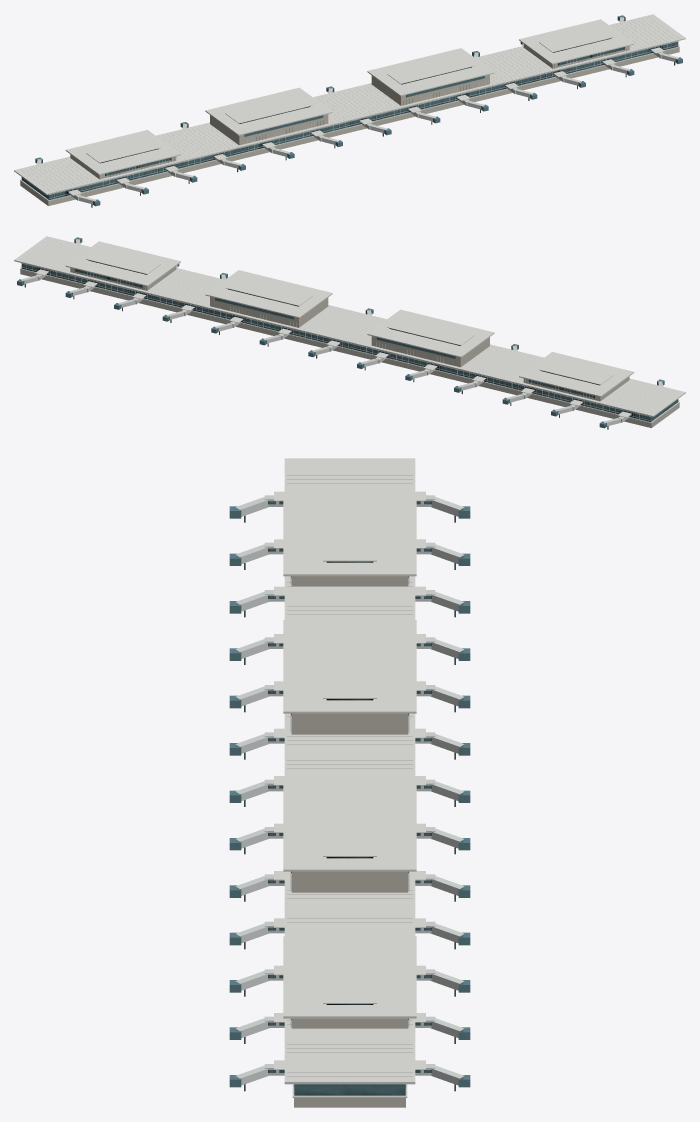
Rendered from aus-concourse-b.glb.
3 renders of one model, top to bottom at view 1: azimuth 30°, elevation 25°; view 2: azimuth 150°, elevation 25°; view 3: azimuth 270°, elevation 25°, orthographic. The views are drawn at different scales.
Visible parts, largest first — view 1: 10 Concourse architecture__Blue gray glazing; view 2: 10 Concourse architecture__Blue gray glazing; view 3: 10 Concourse architecture__Blue gray glazing.
Boxes of the visible parts, bbox=[...] form: 10 Concourse architecture__Blue gray glazing: bbox=[14, 14, 685, 207]; 10 Concourse architecture__Blue gray glazing: bbox=[14, 236, 685, 429]; 10 Concourse architecture__Blue gray glazing: bbox=[229, 458, 470, 1107].
Bounding box in the file's own units: 632 × 27.75 × 103.
